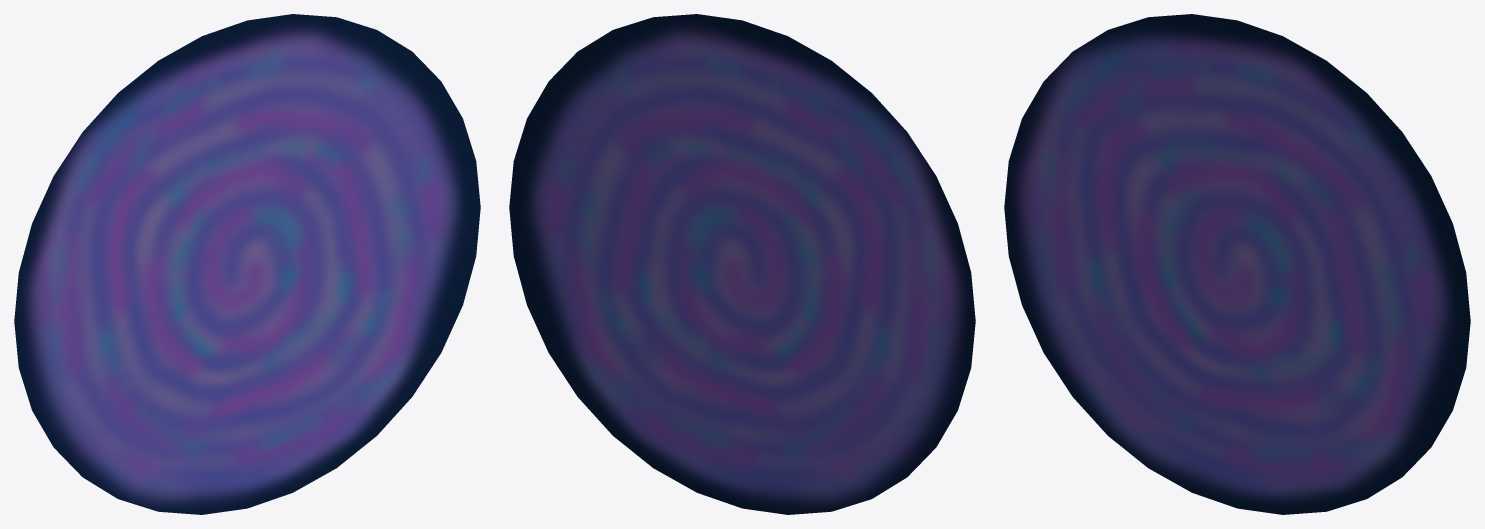
File: portal.glb
3 views of the same model, side by side, from view 1: azimuth 30°, elevation 25°; view 2: azimuth 150°, elevation 25°; view 3: azimuth 330°, elevation 25° (orthographic).
Visible parts, largest first — view 1: Portal; view 2: Portal; view 3: Portal.
Part boxes in pixels (<box>): Portal: <box>14,14,480,514</box>; Portal: <box>509,14,975,514</box>; Portal: <box>1004,14,1470,514</box>.
Size of the model in its own units: 1.28 by 1.28 by 2.84e-16.
Materials: 1 (1 with a texture image).
